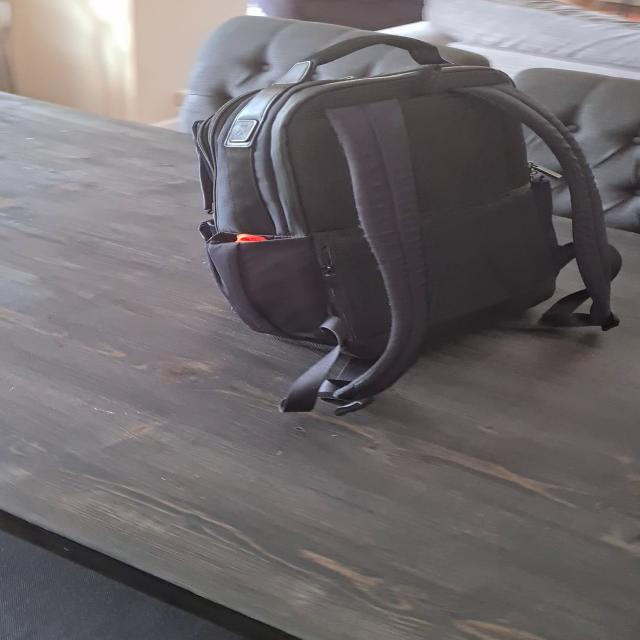backpack: (168, 9, 616, 408)
